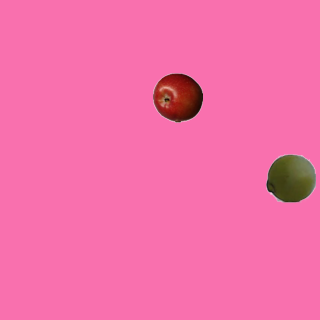Apple Braeburn: (152, 72, 202, 122)
Grape White 4: (265, 152, 315, 202)
